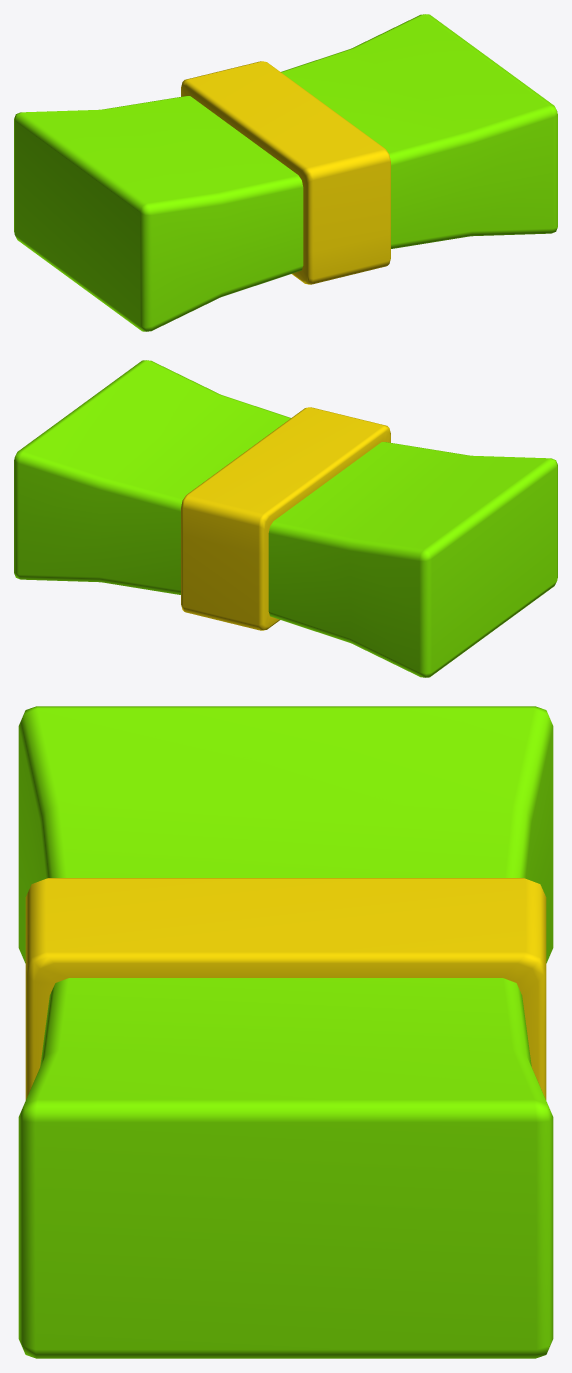
File: MoneyBundle.glb
3 renders of one model, top to bottom at view 1: azimuth 30°, elevation 25°; view 2: azimuth 150°, elevation 25°; view 3: azimuth 270°, elevation 25°, orthographic. The views are drawn at different scales.
Visible parts, largest first — view 1: MoneyBundle; view 2: MoneyBundle; view 3: MoneyBundle.
Boxes of the visible parts, <box> form: MoneyBundle: <box>14,14,557,331</box>; MoneyBundle: <box>14,360,557,677</box>; MoneyBundle: <box>18,706,553,1358</box>.
Bounding box in the file's own units: 1 × 0.2941 × 0.5551.
